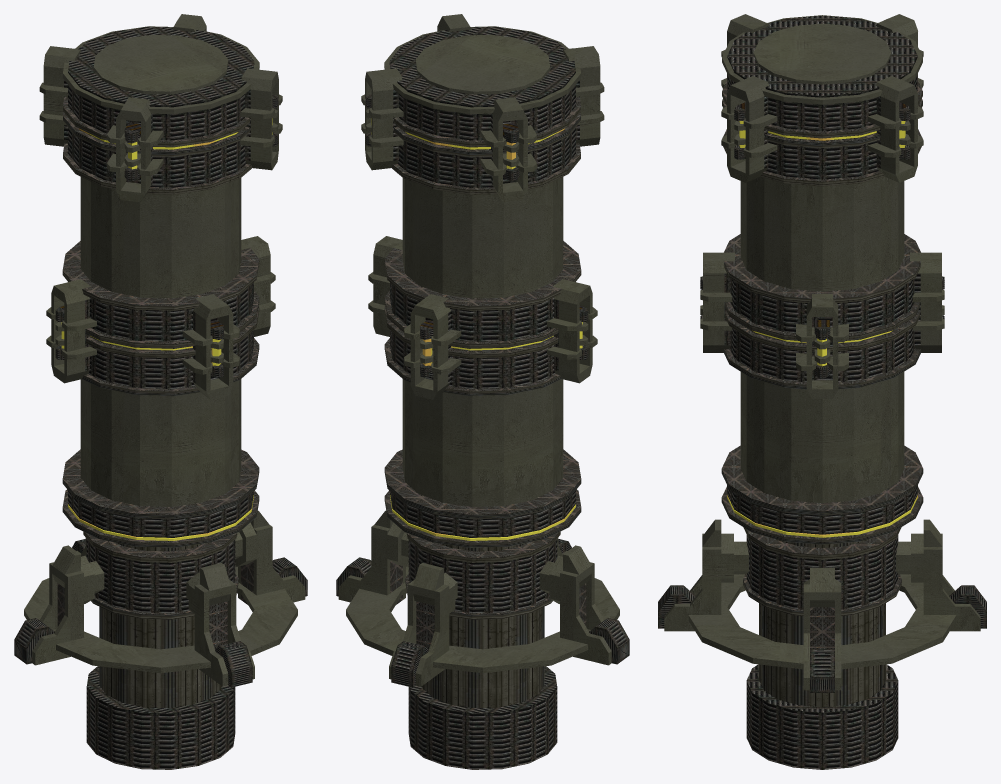
The model's file is cylTow2Slim.fbx.
3 views of the same model, side by side, from view 1: azimuth 30°, elevation 25°; view 2: azimuth 150°, elevation 25°; view 3: azimuth 270°, elevation 25° (orthographic).
Visible parts, largest first — view 1: Object; view 2: Object; view 3: Object.
Part boxes in pixels (x1=…): Object: x1=14, y1=14, x2=307, y2=769; Object: x1=336, y1=14, x2=629, y2=769; Object: x1=658, y1=14, x2=986, y2=769.
Size of the model in its own units: 3100 by 7125 by 3100.
